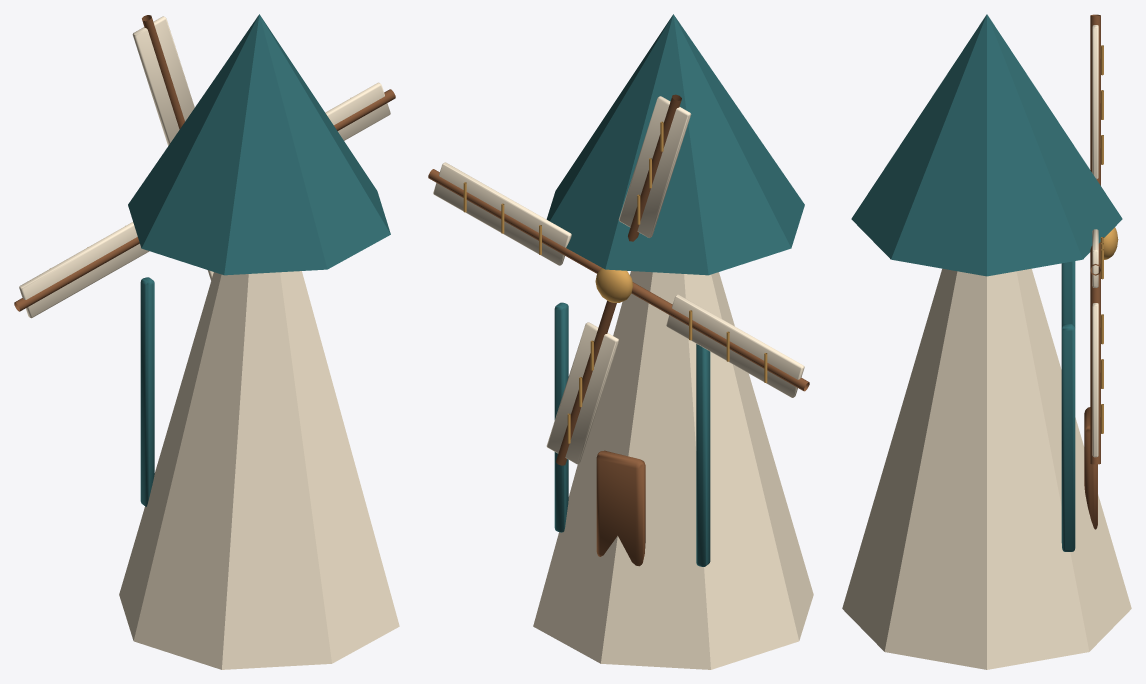
Rendered from prop-windmill.glb.
3 renders of one model, left to right at view 1: azimuth 30°, elevation 25°; view 2: azimuth 150°, elevation 25°; view 3: azimuth 270°, elevation 25°, orthographic.
Parts seen in each view (by area): view 1: OrchardWindmill_MillIvory, OrchardWindmill_MillTeal, OrchardWindmill_MillWood; view 2: OrchardWindmill_MillIvory, OrchardWindmill_MillTeal, OrchardWindmill_MillWood, OrchardWindmill_MillGold; view 3: OrchardWindmill_MillIvory, OrchardWindmill_MillTeal, OrchardWindmill_MillWood, OrchardWindmill_MillGold.
Boxes of the visible parts, x1,y1,x2,y2 form: OrchardWindmill_MillIvory: [19, 16, 399, 669]; OrchardWindmill_MillTeal: [128, 14, 390, 506]; OrchardWindmill_MillWood: [14, 15, 395, 311]; OrchardWindmill_MillIvory: [433, 96, 813, 669]; OrchardWindmill_MillTeal: [546, 14, 804, 566]; OrchardWindmill_MillWood: [428, 94, 809, 566]; OrchardWindmill_MillGold: [463, 121, 767, 443]; OrchardWindmill_MillIvory: [842, 25, 1131, 669]; OrchardWindmill_MillTeal: [851, 14, 1122, 551]; OrchardWindmill_MillWood: [1084, 14, 1100, 529]; OrchardWindmill_MillGold: [1100, 45, 1118, 433].
Bounding box in the file's own units: 9.62 × 14.5 × 6.4.
